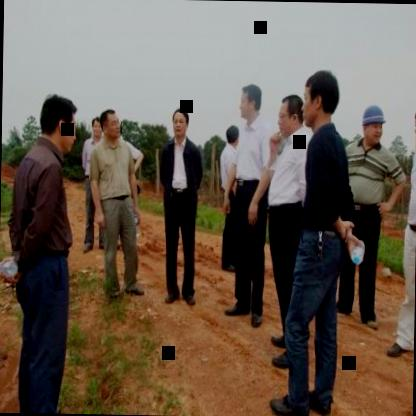head: (37, 91, 81, 157), (300, 68, 342, 131), (274, 91, 304, 135), (237, 78, 264, 122), (168, 104, 192, 142), (98, 106, 122, 143), (221, 122, 242, 152)
helmet: (358, 99, 388, 146)
